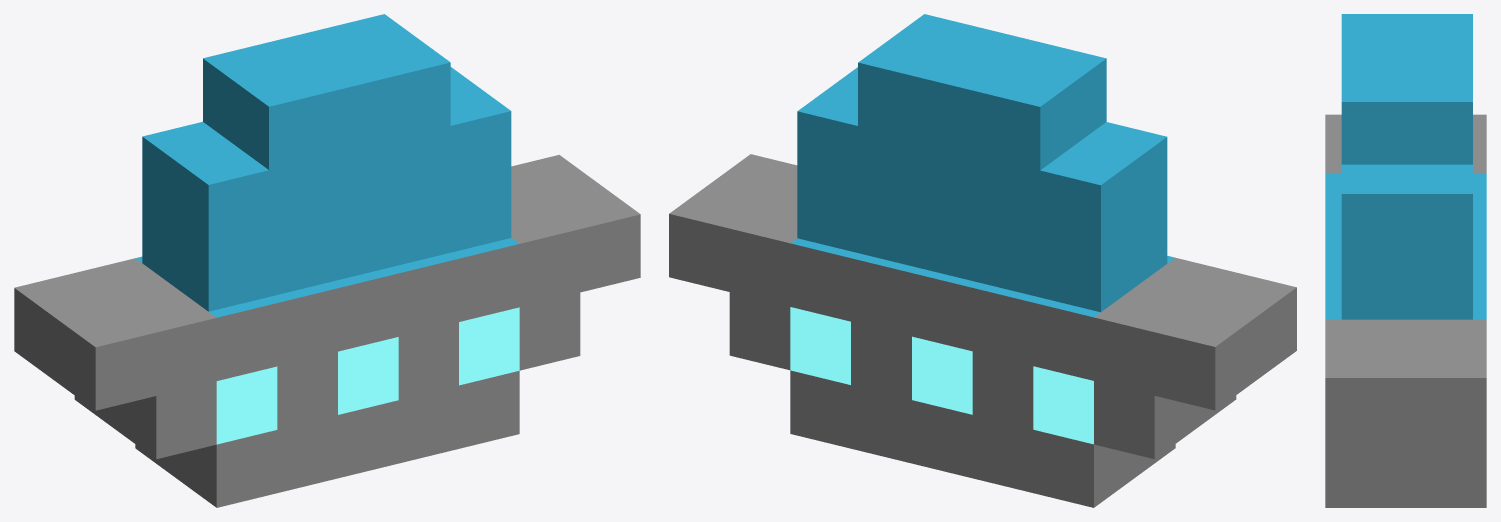
Rendered from UFFO.glb.
3 renders of one model, left to right at view 1: azimuth 30°, elevation 25°; view 2: azimuth 150°, elevation 25°; view 3: azimuth 270°, elevation 25°, orthographic.
Visible parts, largest first — view 1: ENEMY 4; view 2: ENEMY 4; view 3: ENEMY 4.
Boxes of the visible parts, <box> form: ENEMY 4: <box>14,14,640,507</box>; ENEMY 4: <box>669,14,1296,507</box>; ENEMY 4: <box>1325,14,1486,507</box>.
Bounding box in the file's own units: 2.57 × 1.72 × 0.666.
